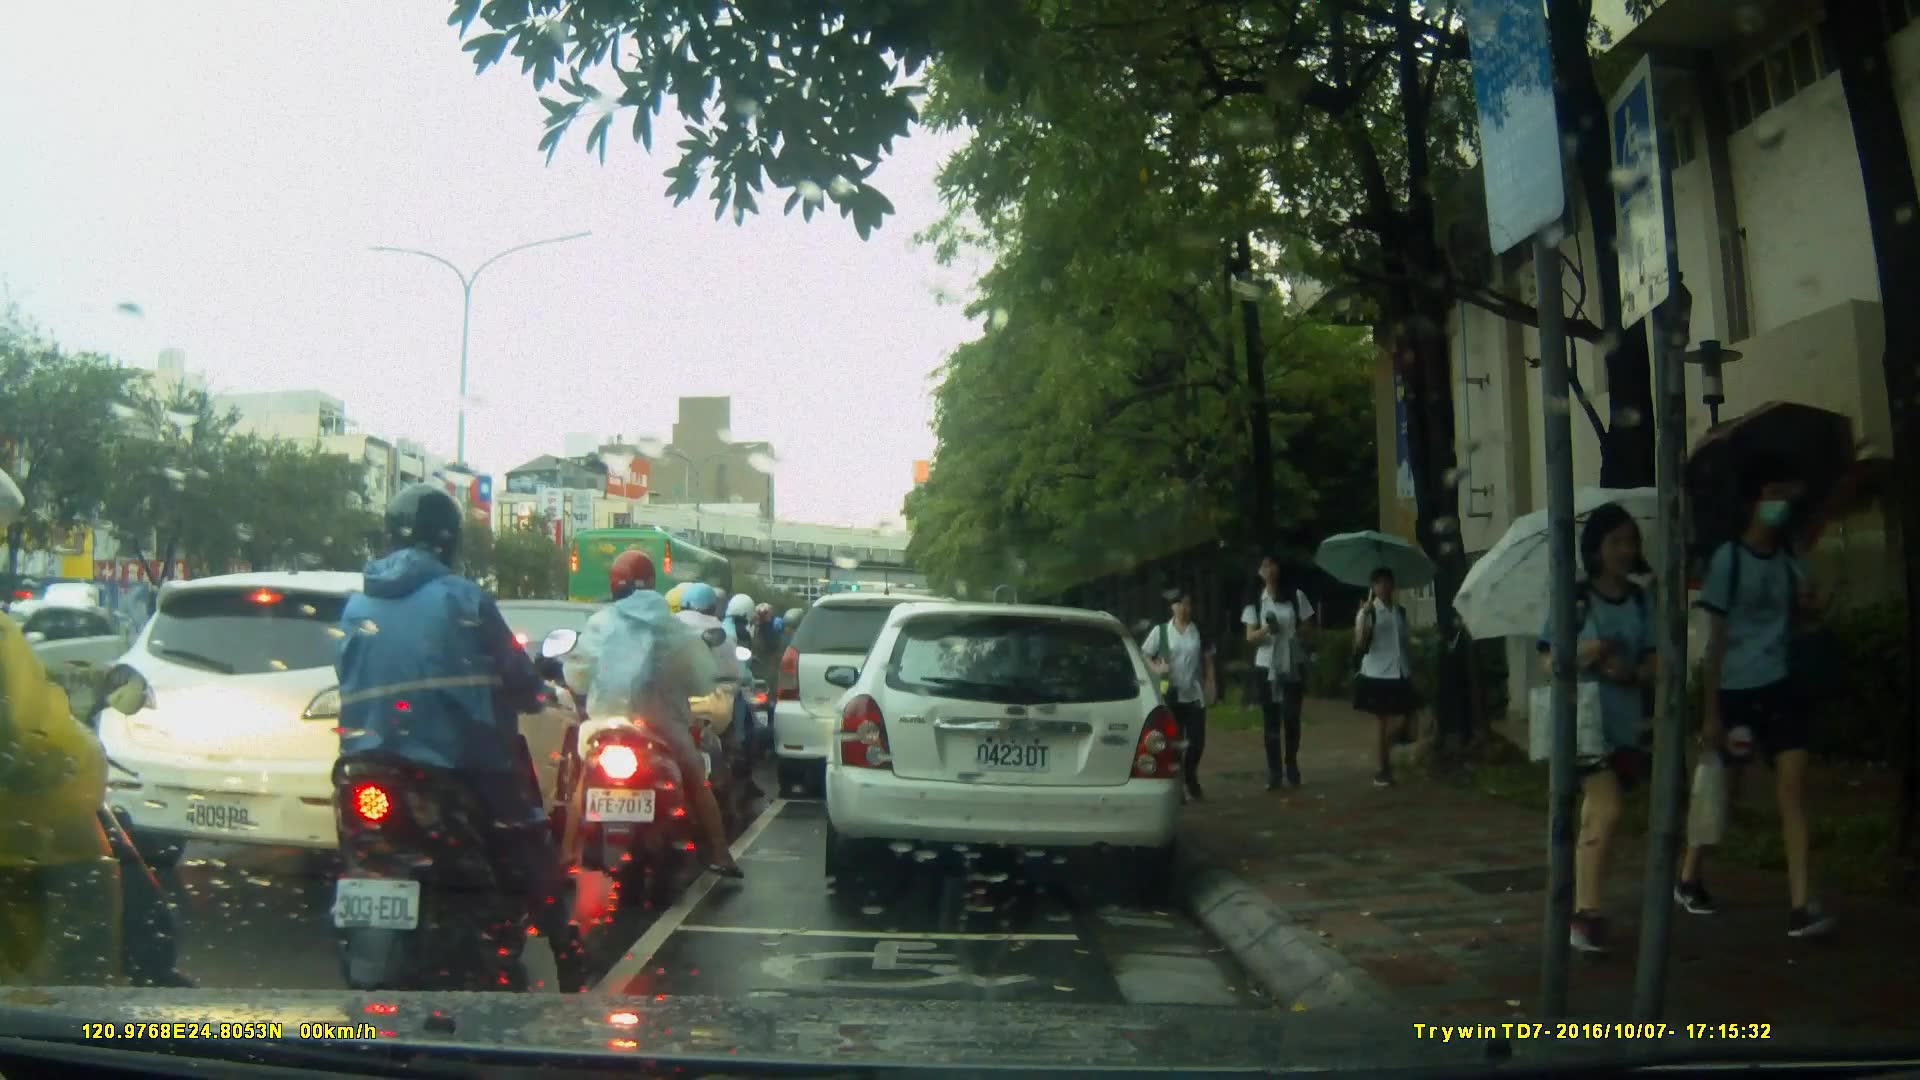pedestrian: (1687, 447, 1840, 953), (1523, 496, 1681, 965), (1239, 556, 1329, 791), (1344, 559, 1433, 788), (1133, 583, 1221, 792)
rider: (328, 480, 582, 1002), (1, 455, 181, 1080), (551, 548, 746, 917), (635, 576, 766, 834), (683, 594, 770, 784)
vehicle: (93, 569, 617, 883), (822, 604, 1187, 883), (774, 595, 995, 802), (580, 529, 754, 653), (7, 608, 135, 703)
